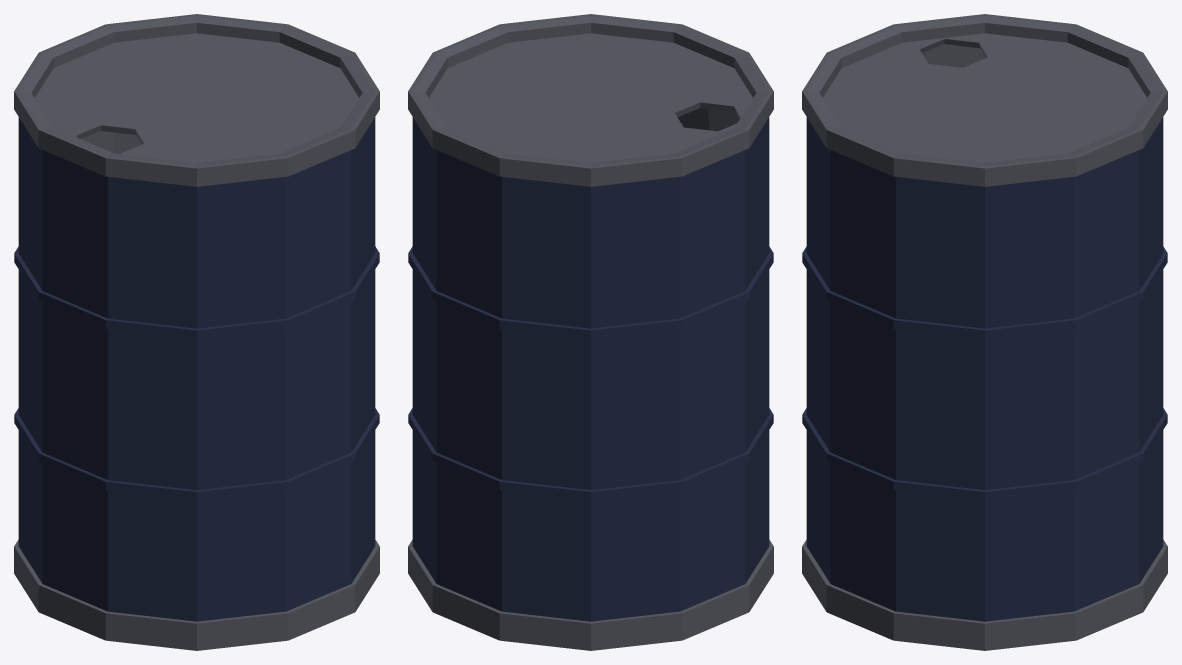
Rendered from chem bin bigger hole.fbx.
The picture shows the model from 3 angles, left to right: view 1: azimuth 30°, elevation 25°; view 2: azimuth 150°, elevation 25°; view 3: azimuth 270°, elevation 25°; orthographic projection.
Visible parts, largest first — view 1: pCylinder12; view 2: pCylinder12; view 3: pCylinder12.
Part boxes in pixels (x1,y1,x2,y2): pCylinder12: (14,14,379,650); pCylinder12: (408,14,773,650); pCylinder12: (802,14,1167,650).
Bounding box in the file's own units: 61.53 × 89.57 × 61.53.
Materials: 1 (1 with a texture image).
